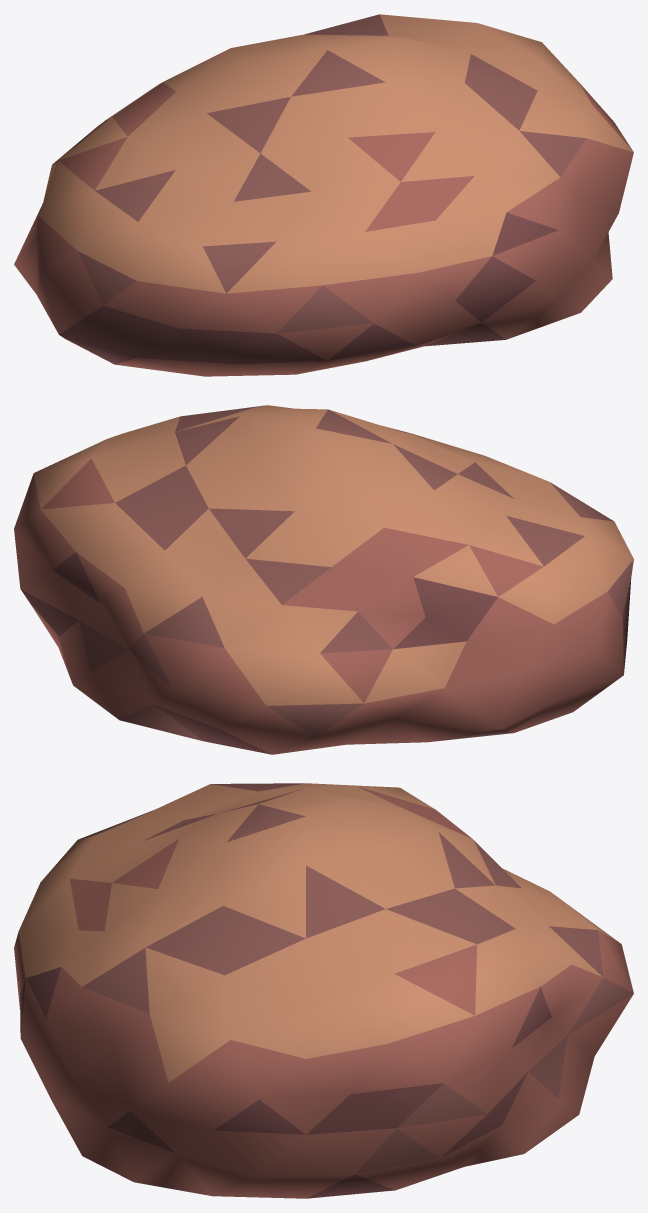
Rendered from rock_7.glb.
3 views of the same model, one above another, from view 1: azimuth 30°, elevation 25°; view 2: azimuth 150°, elevation 25°; view 3: azimuth 270°, elevation 25° (orthographic). The views are drawn at different scales.
Visible parts, largest first — view 1: rock_7; view 2: rock_7; view 3: rock_7.
Boxes of the visible parts, box(x1,y1,x2,y2) form: rock_7: box(14, 14, 633, 376); rock_7: box(14, 405, 633, 754); rock_7: box(14, 783, 633, 1198).
Bounding box in the file's own units: 6.51 × 2.54 × 5.58.
